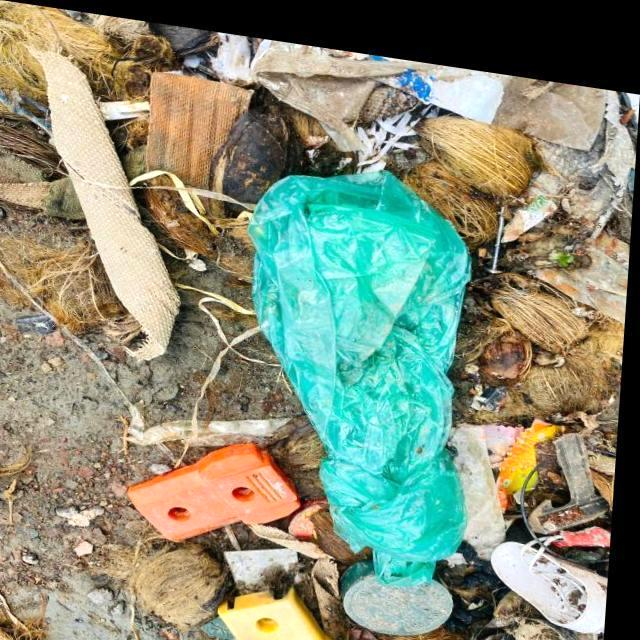polythene: (244, 151, 513, 577)
